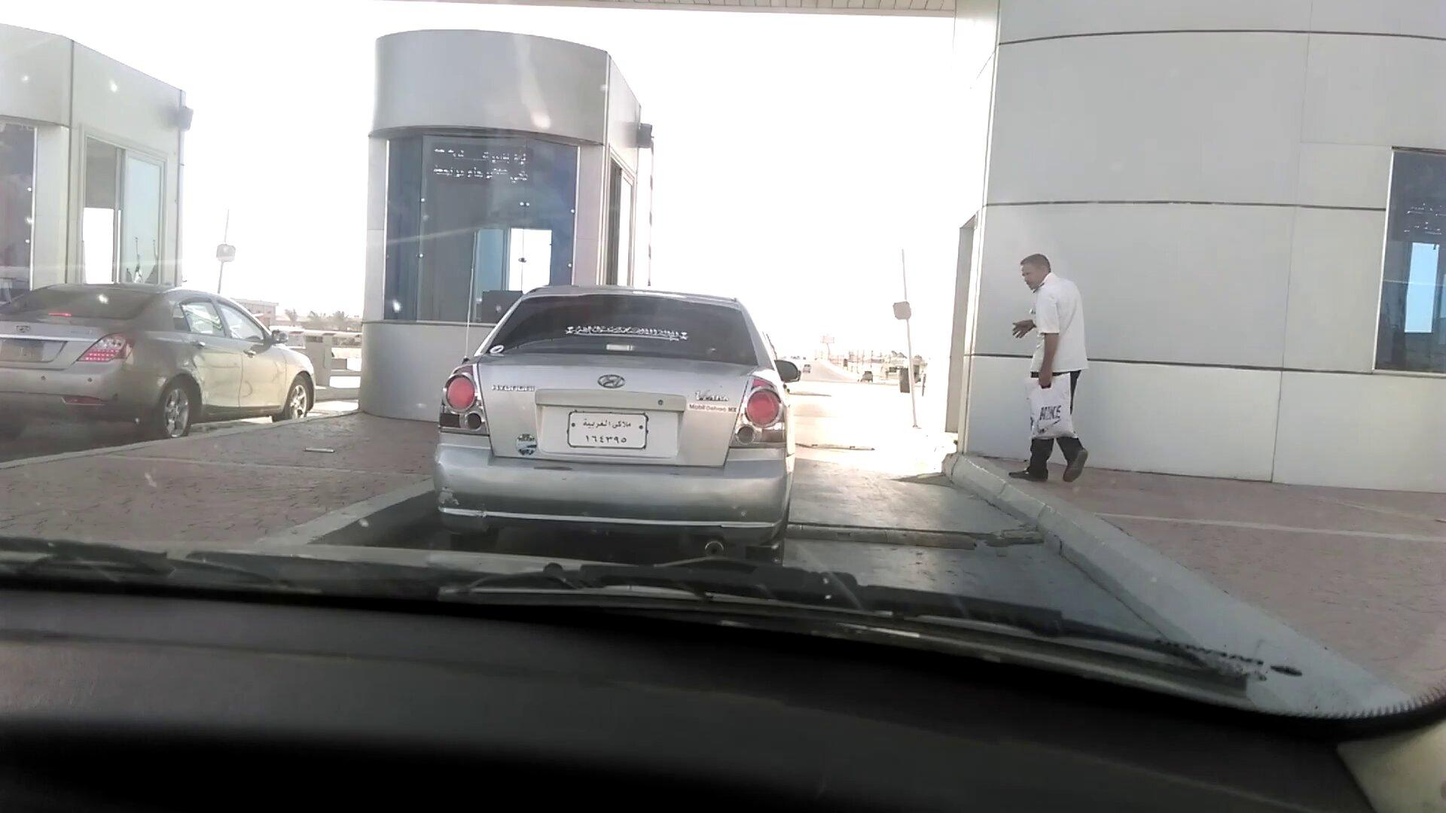Bump: (787, 521, 971, 549), (787, 436, 884, 454), (794, 385, 825, 395)
